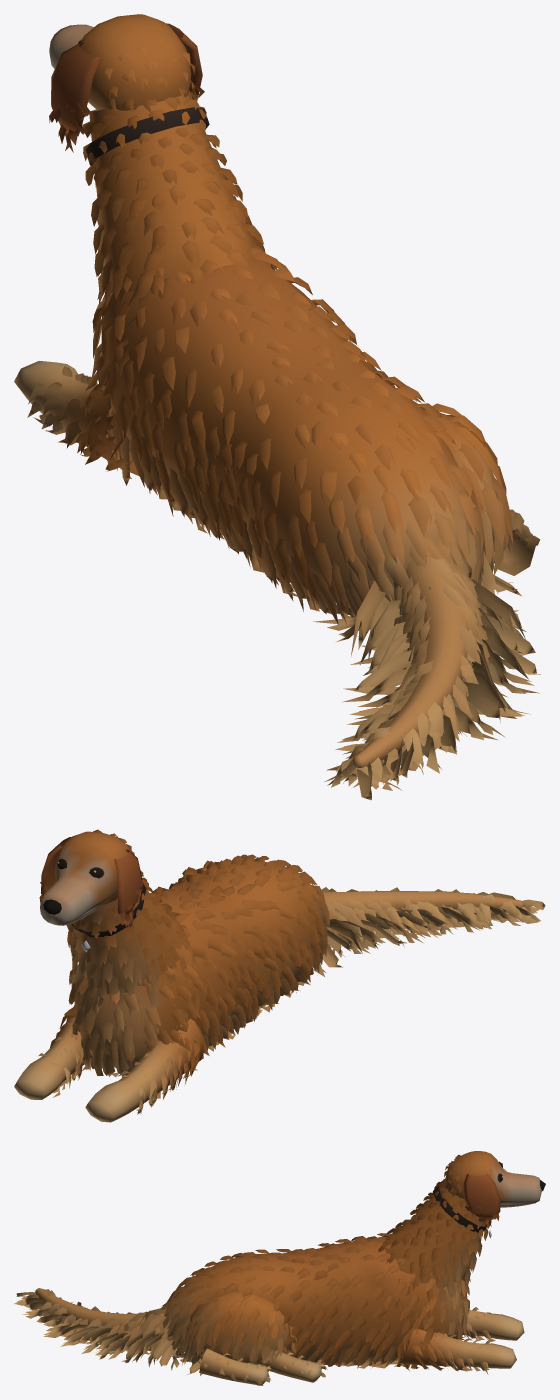
Rendered from porch-dog.glb.
3 renders of one model, top to bottom at view 1: azimuth 30°, elevation 25°; view 2: azimuth 150°, elevation 25°; view 3: azimuth 270°, elevation 25°, orthographic. The views are drawn at different scales.
Visible parts, largest first — view 1: body-mesh, tail-mesh, neck-mesh, head-mesh; view 2: body-mesh, neck-mesh, tail-mesh, head-mesh; view 3: body-mesh, neck-mesh, tail-mesh, head-mesh.
Part boxes in pixels (x1,y1,x2,y2): body-mesh: [14, 244, 540, 624]; tail-mesh: [313, 552, 540, 800]; neck-mesh: [82, 90, 271, 397]; head-mesh: [49, 14, 204, 152]; body-mesh: [14, 854, 329, 1122]; neck-mesh: [66, 870, 212, 1033]; tail-mesh: [313, 887, 545, 976]; head-mesh: [39, 829, 143, 927]; body-mesh: [160, 1233, 524, 1385]; neck-mesh: [378, 1179, 493, 1329]; tail-mesh: [14, 1288, 179, 1370]; head-mesh: [442, 1151, 545, 1226].
Size of the model in its own units: 0.6791 by 0.6293 by 1.54.
